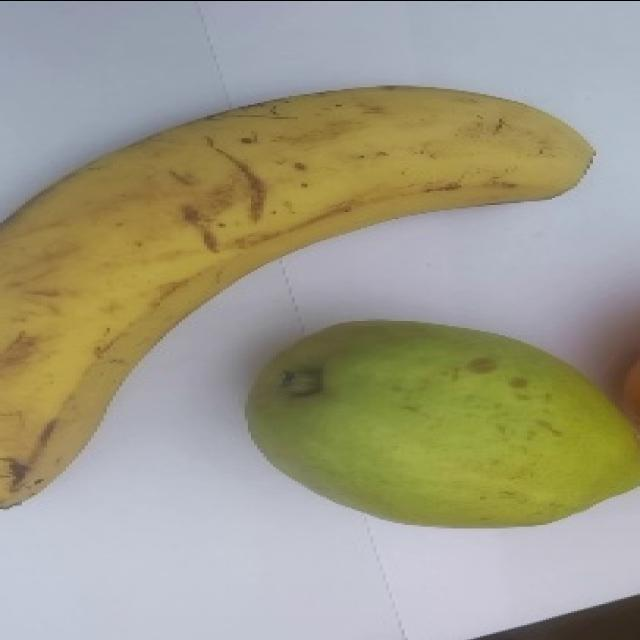Banana: (0, 83, 596, 509)
